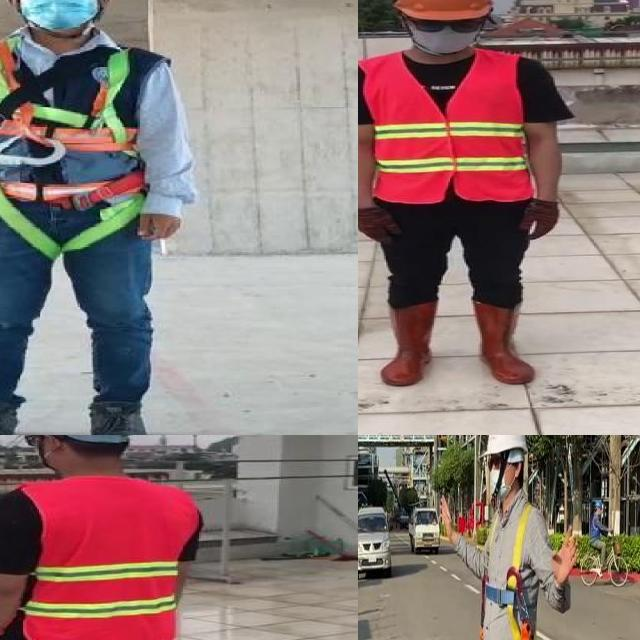Harness: (485, 504, 537, 640)
boots: (473, 303, 534, 386), (379, 304, 441, 385)
face_mask: (16, 0, 99, 30)
hand_noglove: (132, 207, 188, 240)
head_helmet: (392, 0, 499, 23)
person: (0, 0, 209, 435), (358, 0, 576, 398), (0, 435, 212, 640)
shoes: (76, 393, 156, 435)
vest: (12, 475, 198, 640), (0, 32, 173, 208), (363, 50, 533, 202)
